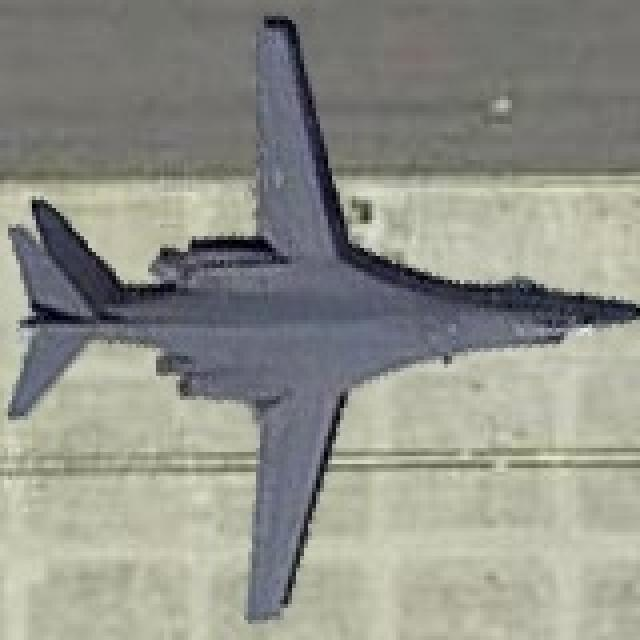B-1_TopDown: (0, 8, 636, 620)
